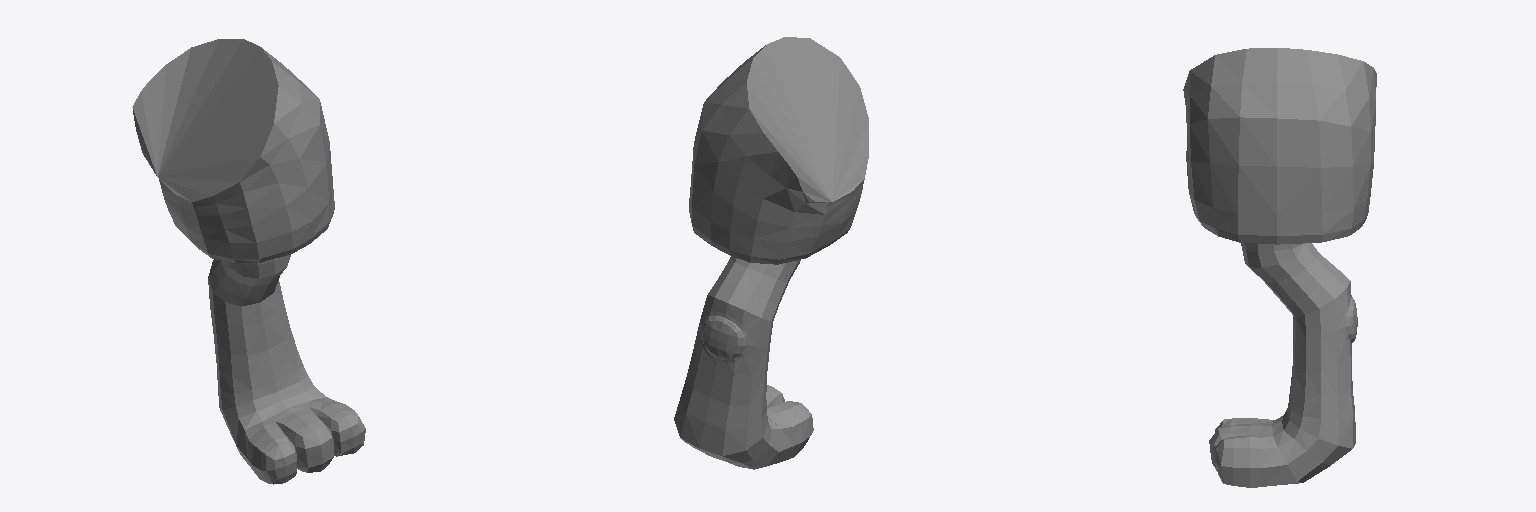
File: LucarioPierIzq.obj
3 renders of one model, left to right at view 1: azimuth 30°, elevation 25°; view 2: azimuth 150°, elevation 25°; view 3: azimuth 270°, elevation 25°, orthographic.
Visible parts, largest first — view 1: PiernaIzq001; view 2: PiernaIzq001; view 3: PiernaIzq001.
Boxes of the visible parts, box(x1,y1,x2,y2) form: PiernaIzq001: box(132, 39, 365, 484); PiernaIzq001: box(674, 37, 868, 469); PiernaIzq001: box(1183, 48, 1376, 487).
Size of the model in its own units: 1.49 by 3.6 by 1.5.